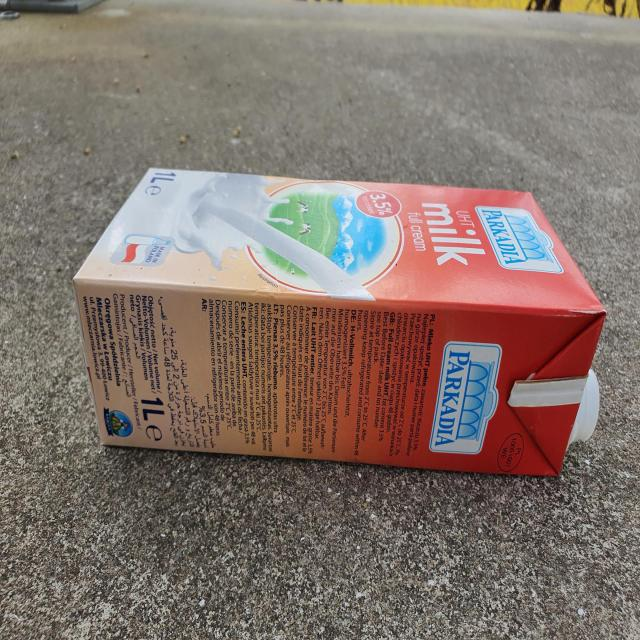paperpack: (73, 168, 606, 476)
